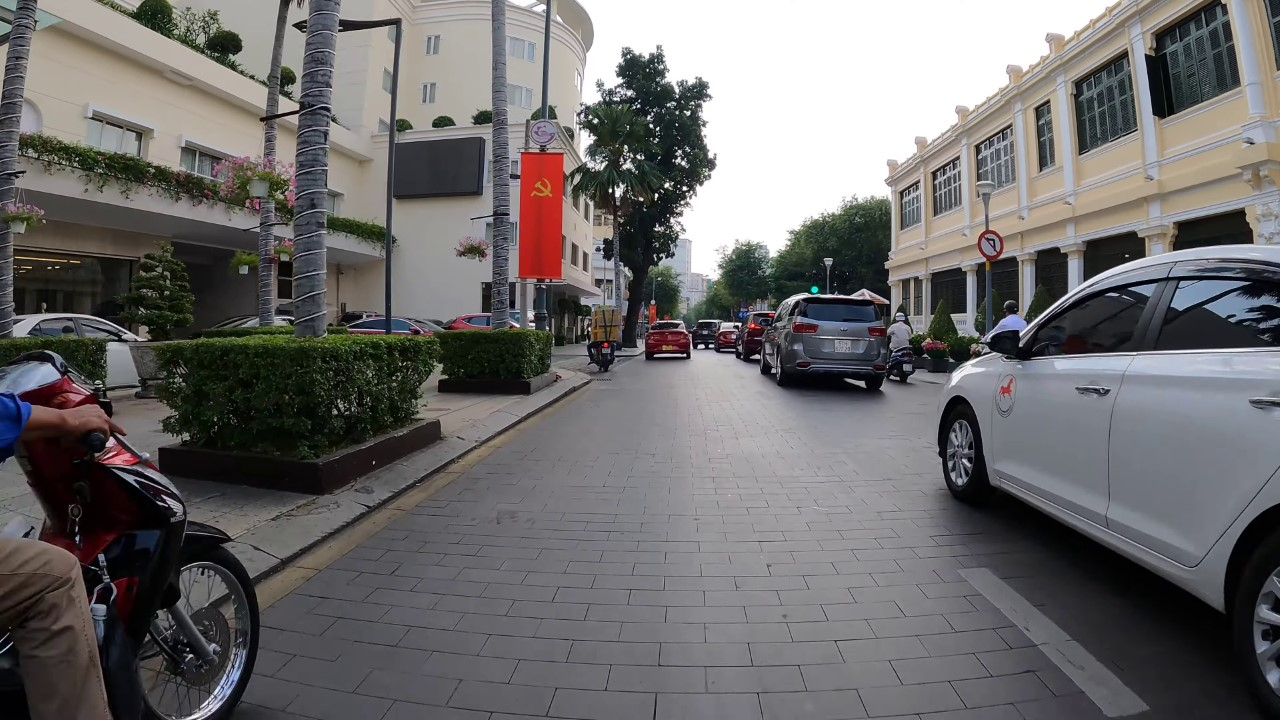cam_re_trai: (972, 225, 1007, 264)
